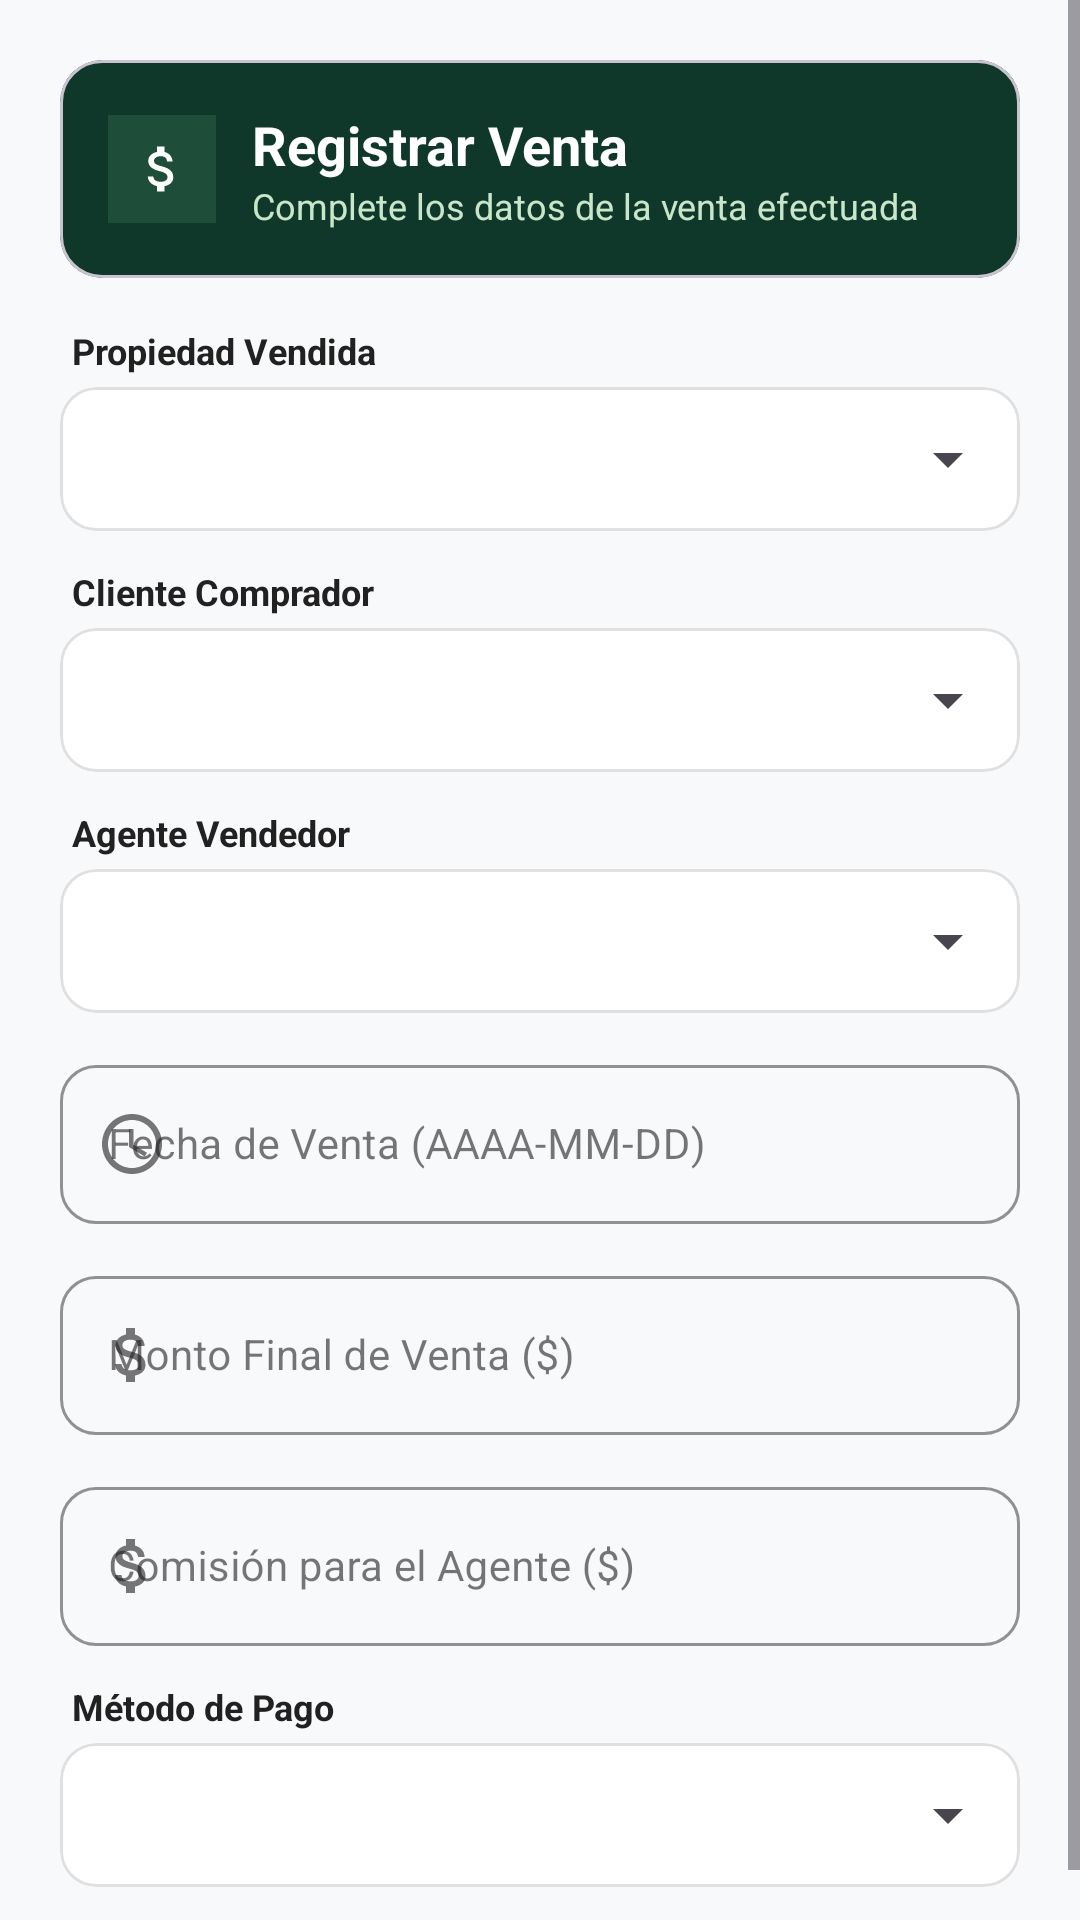

Where to tap for icons on this 1080 × 1920 app screen, as [x,y]:
Icono Venta: [162,169]
